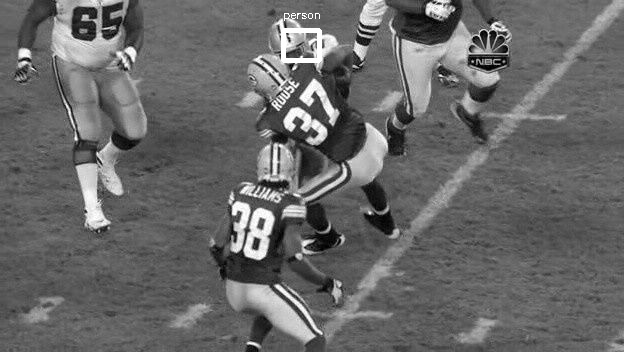person: (273, 30, 307, 74), (272, 30, 306, 74), (274, 30, 308, 74), (273, 29, 307, 73), (273, 31, 307, 75)
target_negative: (237, 126, 587, 337), (327, 81, 569, 235), (56, 202, 367, 306), (164, 273, 446, 308), (143, 181, 208, 208), (414, 144, 416, 182)
